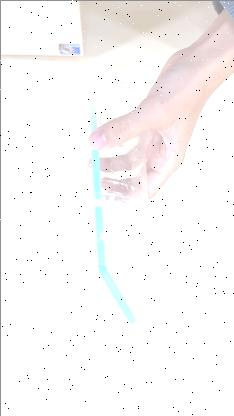Others: (49, 80, 155, 296)
